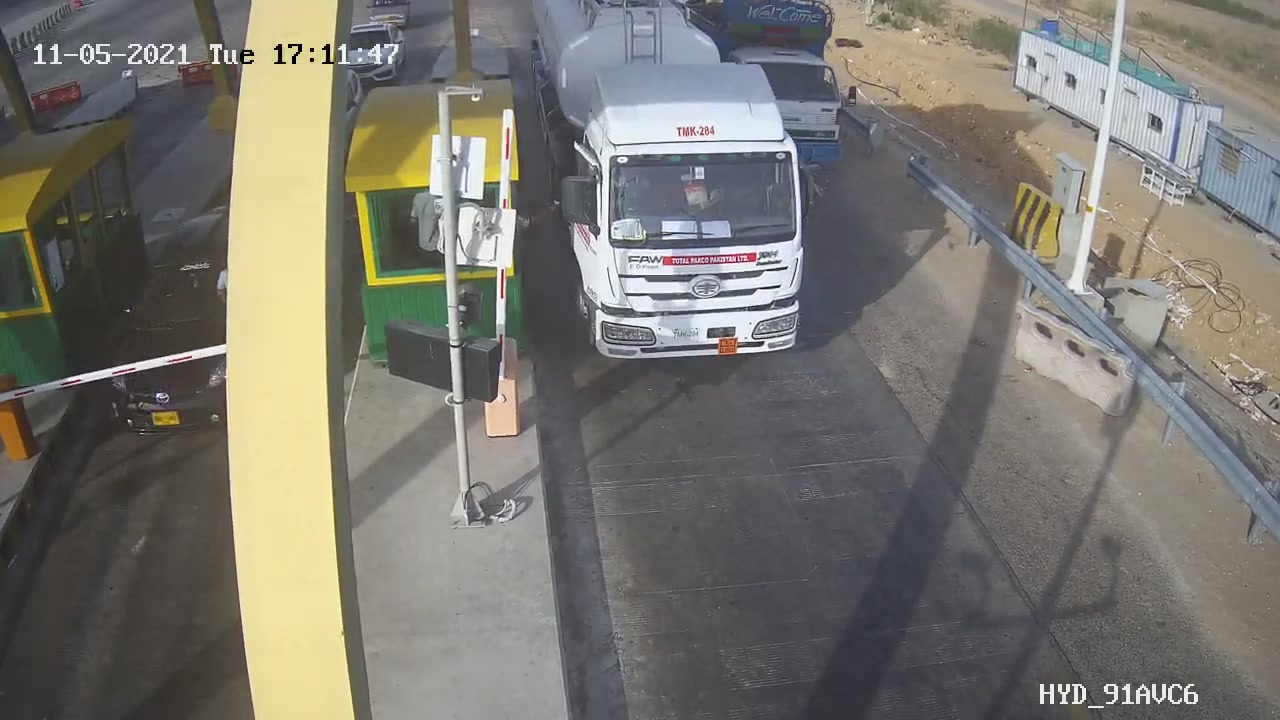F6: (514, 1, 852, 387)
